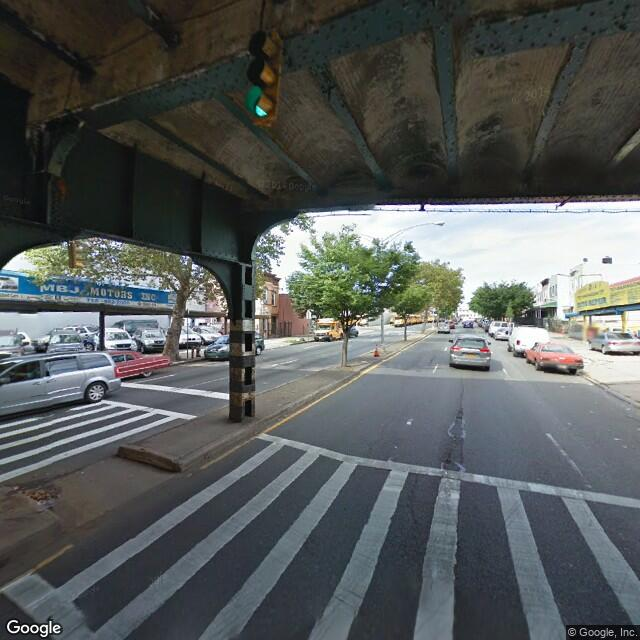litter: (15, 480, 77, 509), (367, 346, 393, 358)
